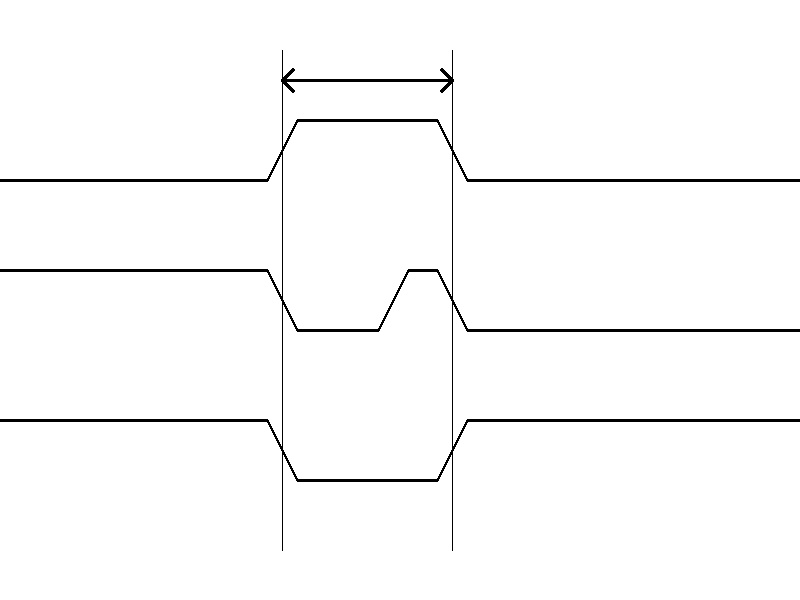double_arrow: (282, 65, 452, 95)
